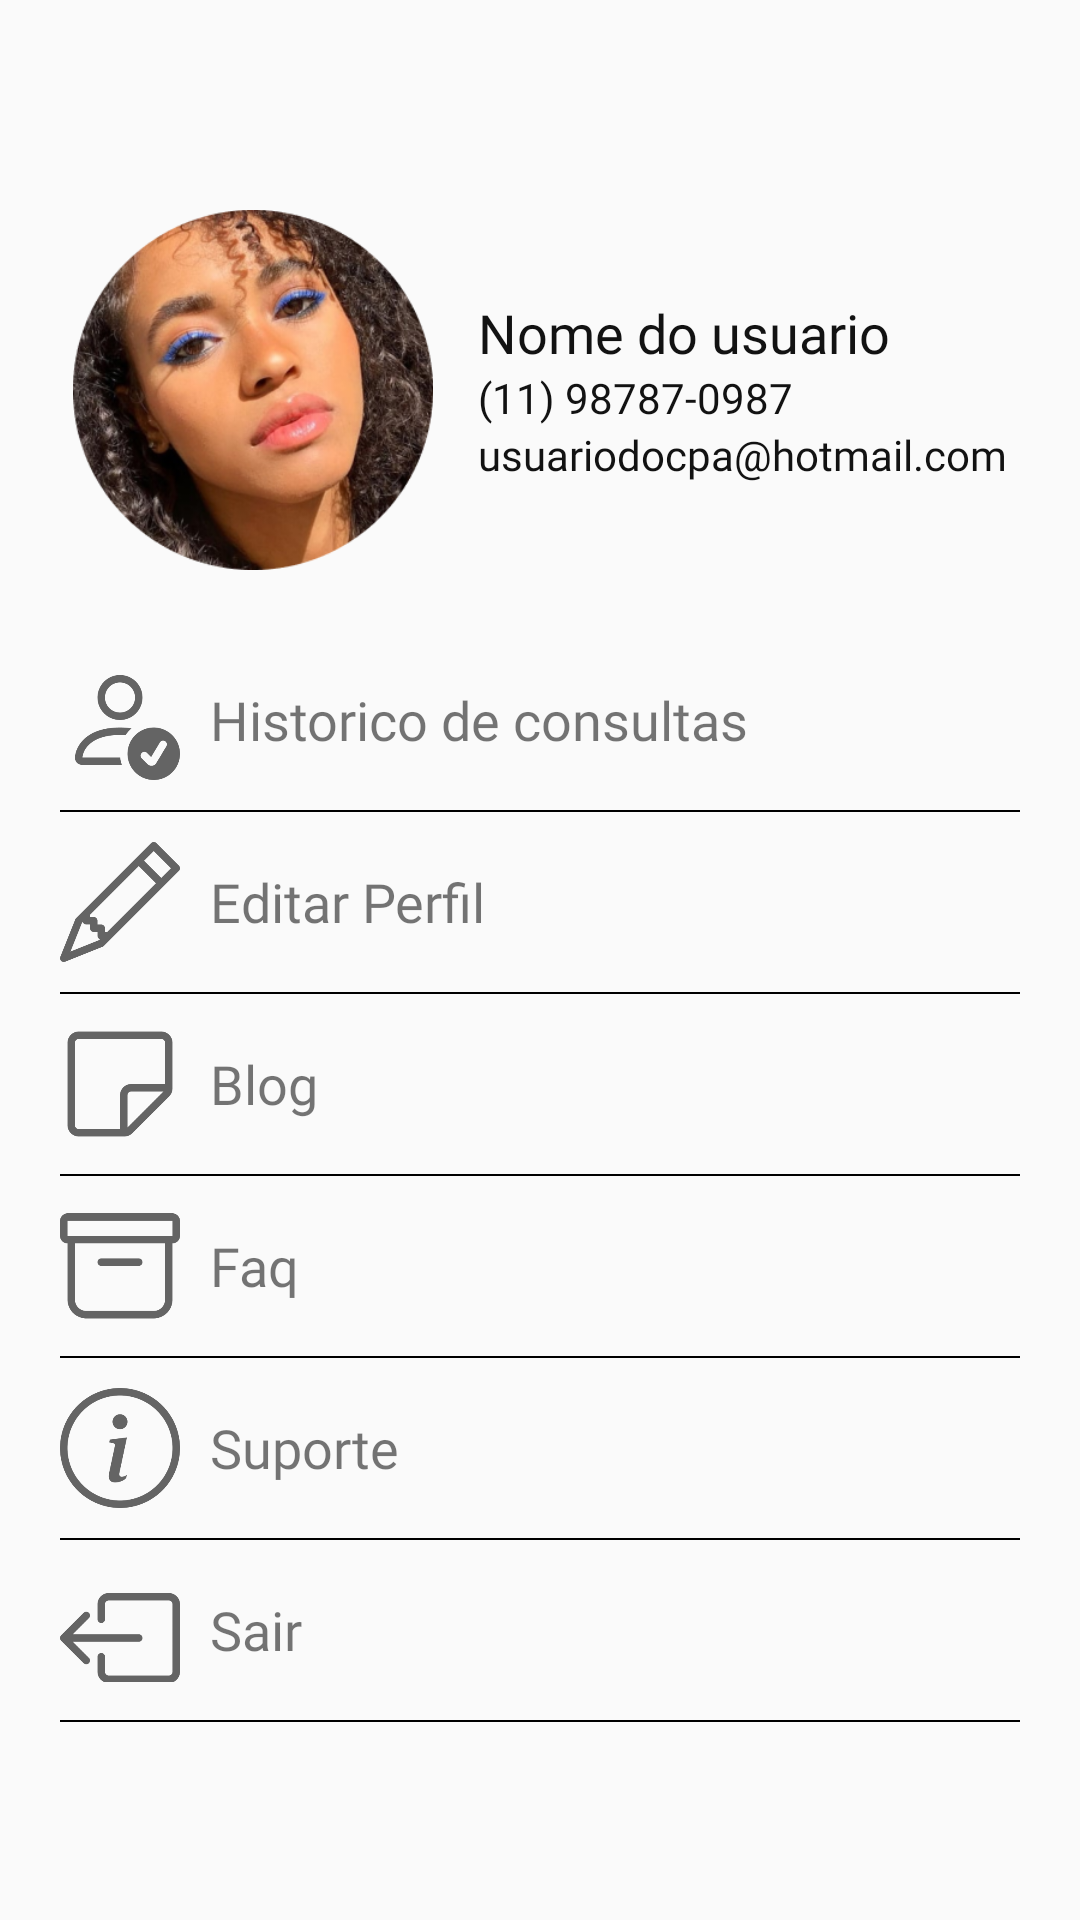

Where icons sit on this 1080*1920 app screen, as (x1, y1, x2, y2):
foto perfil mulher: (73, 210, 433, 570)
